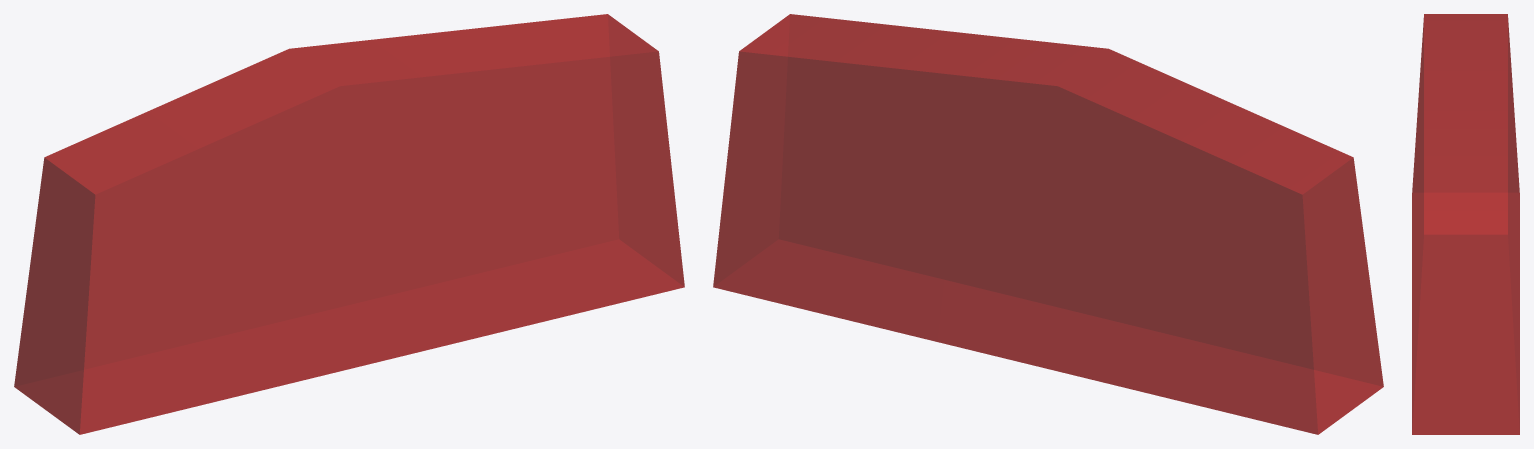
File: SM_Prop_Stonewall_Small_02_Collision.fbx
3 views of the same model, side by side, from view 1: azimuth 30°, elevation 25°; view 2: azimuth 150°, elevation 25°; view 3: azimuth 270°, elevation 25° (orthographic). The views are drawn at different scales.
Parts seen in each view (by area): view 1: SM_Prop_Stonewall_Small_02_Collision; view 2: SM_Prop_Stonewall_Small_02_Collision; view 3: SM_Prop_Stonewall_Small_02_Collision.
Boxes of the visible parts, bbox=[...] form: SM_Prop_Stonewall_Small_02_Collision: bbox=[14, 14, 684, 434]; SM_Prop_Stonewall_Small_02_Collision: bbox=[713, 14, 1383, 434]; SM_Prop_Stonewall_Small_02_Collision: bbox=[1412, 14, 1519, 434].
Bounding box in the file's own units: 263 × 115 × 49.4.
